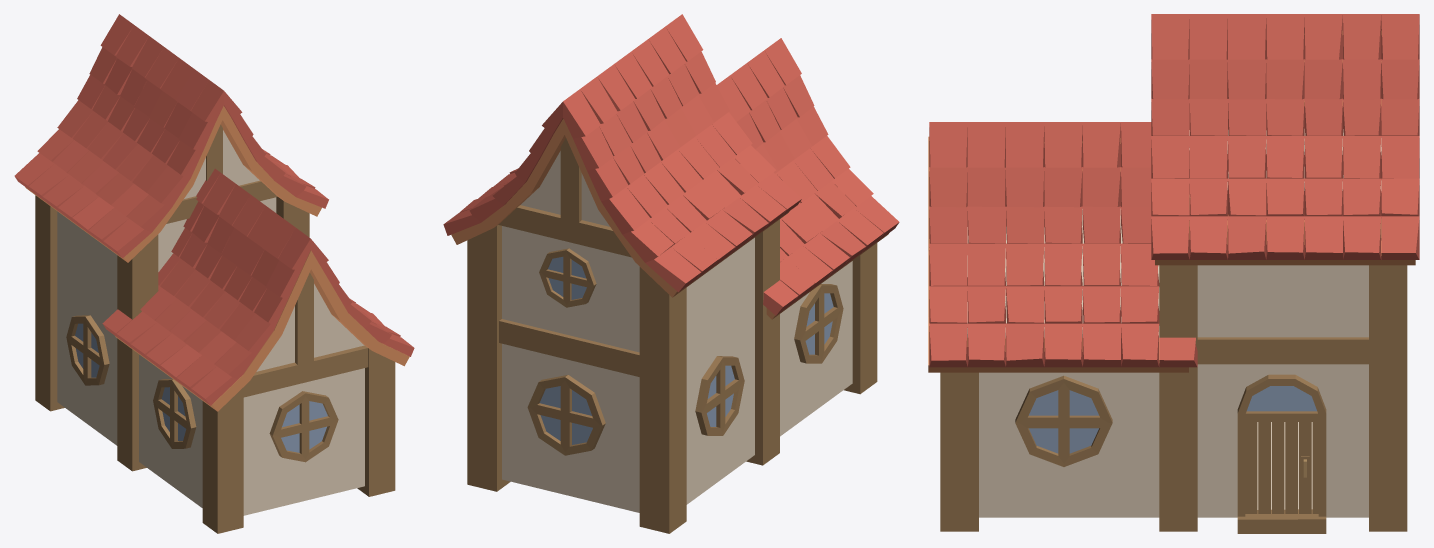
File: house2.fbx
The picture shows the model from 3 angles, left to right: view 1: azimuth 30°, elevation 25°; view 2: azimuth 150°, elevation 25°; view 3: azimuth 270°, elevation 25°; orthographic projection. The views are drawn at different scales.
Visible parts, largest first — view 1: Roof, House, Wood Beams, window.003, window.005, window.004; view 2: Roof, House, Wood Beams, window.001, window.005, window.004, window; view 3: Roof, House, Wood Beams, Door Entrence, door, window.002.
Part boxes in pixels (left/top/right/bottom): Roof: left=14, top=14, right=414, bottom=411; House: left=57, top=130, right=364, bottom=515; Wood Beams: left=35, top=124, right=395, bottom=533; window.003: left=269, top=391, right=338, bottom=462; window.005: left=66, top=315, right=109, bottom=385; window.004: left=153, top=379, right=196, bottom=448; Roof: left=443, top=14, right=899, bottom=319; House: left=502, top=151, right=852, bottom=512; Wood Beams: left=467, top=138, right=877, bottom=533; window.001: left=527, top=375, right=605, bottom=455; window.005: left=695, top=356, right=744, bottom=435; window.004: left=794, top=284, right=843, bottom=363; window: left=539, top=248, right=596, bottom=307; Roof: left=928, top=14, right=1419, bottom=372; House: left=967, top=129, right=1381, bottom=517; Wood Beams: left=940, top=195, right=1407, bottom=531; Door Entrence: left=1237, top=374, right=1326, bottom=533; door: left=1245, top=422, right=1318, bottom=513; window.002: left=1015, top=375, right=1112, bottom=466.
Size of the model in its own units: 364 by 583 by 561.
